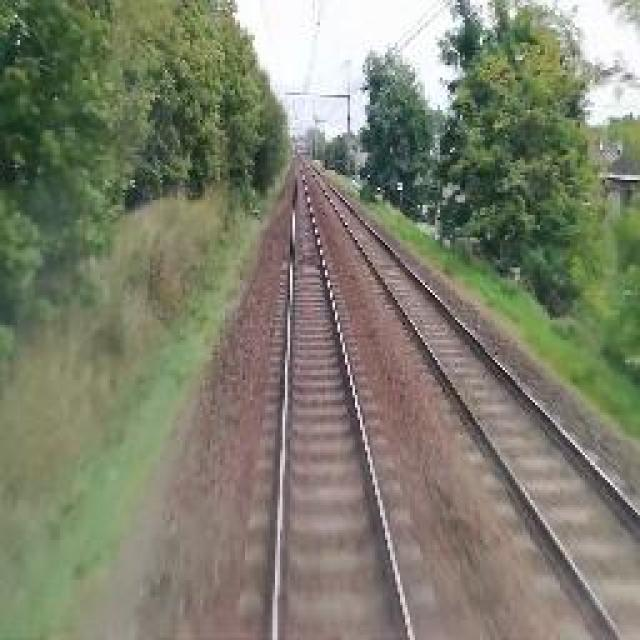rail: (238, 159, 448, 638)
